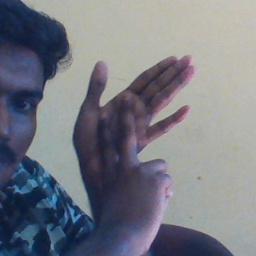N: (71, 57, 201, 205)
